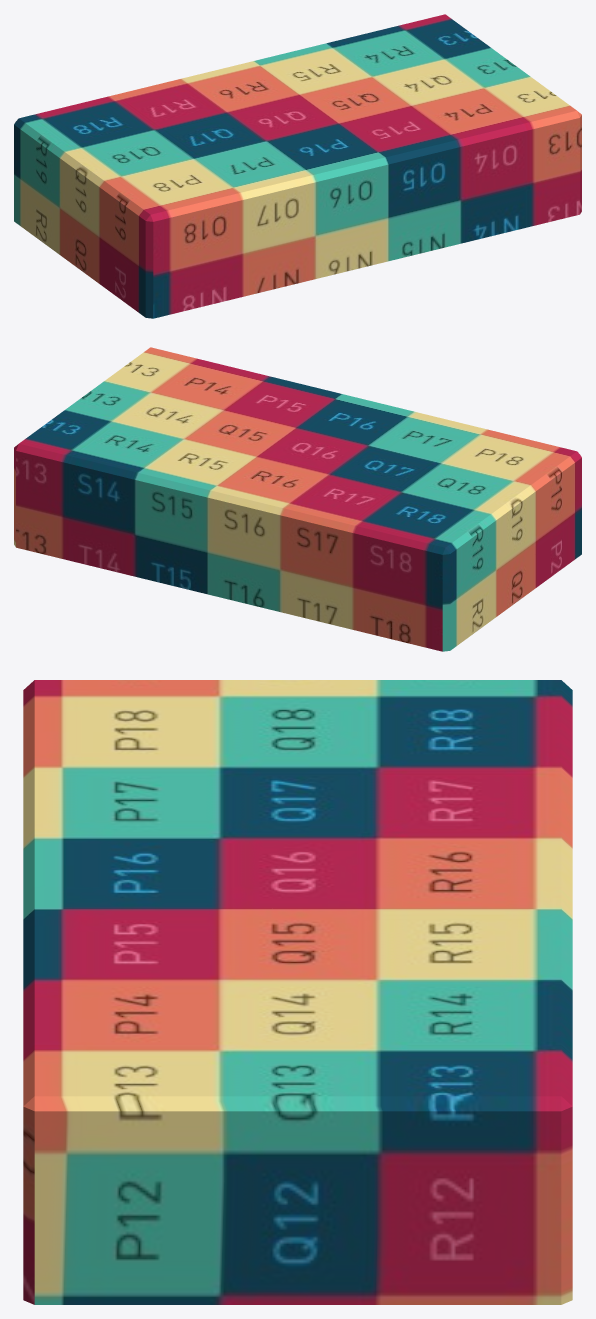
File: bgame_4.fbx
3 renders of one model, top to bottom at view 1: azimuth 30°, elevation 25°; view 2: azimuth 150°, elevation 25°; view 3: azimuth 270°, elevation 25°, orthographic. The views are drawn at different scales.
Visible parts, largest first — view 1: bored_game7; view 2: bored_game7; view 3: bored_game7.
Boxes of the visible parts, <box> form: bored_game7: <box>14,14,581,318</box>; bored_game7: <box>14,347,581,651</box>; bored_game7: <box>23,680,572,1304</box>.
Bounding box in the file's own units: 34.08 × 7.61 × 18.59.
